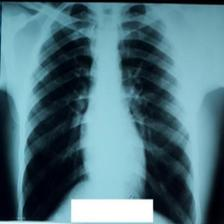tuberculosis: (15, 3, 199, 224)
